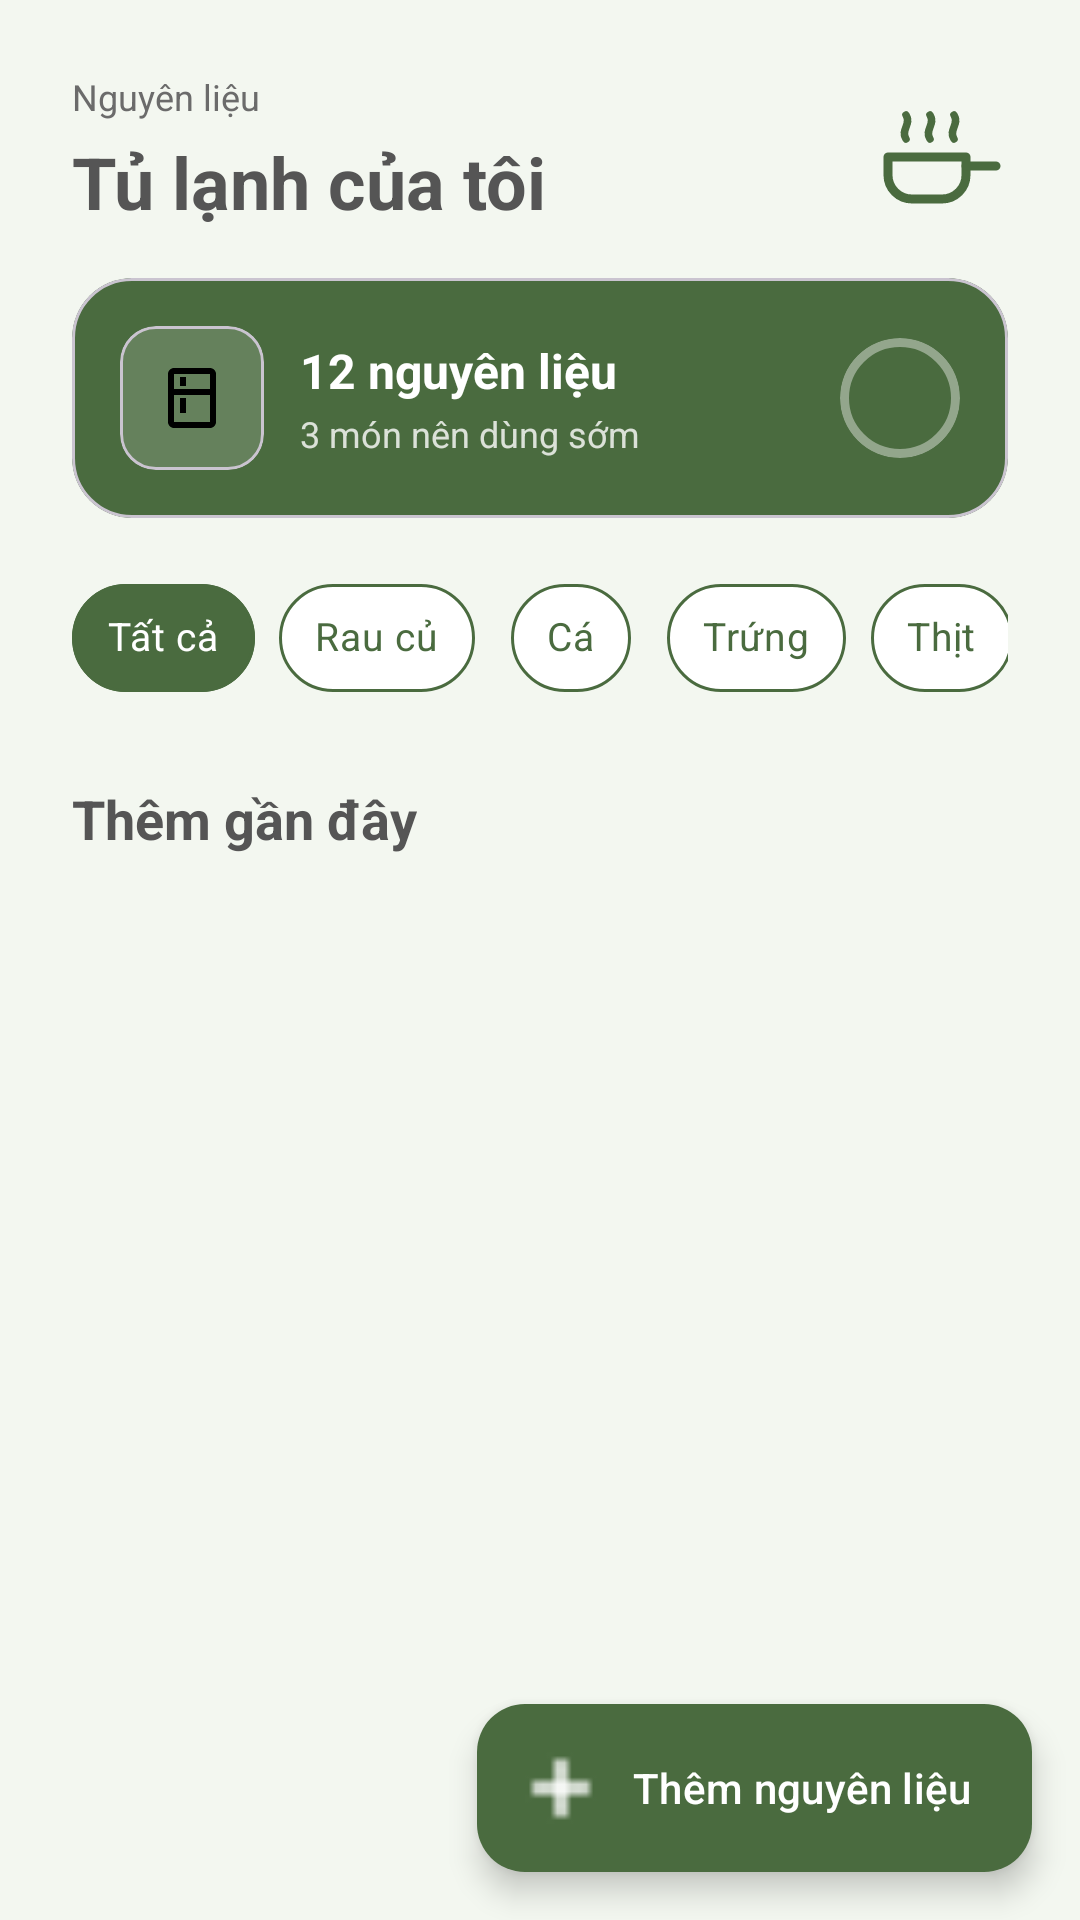

Locate icon controls on the screen. Image size 1080px x 1920px, boxes as (x1, y1, x2, y2).
fridge: (168, 368, 216, 428)
pot: (883, 111, 1001, 204)
